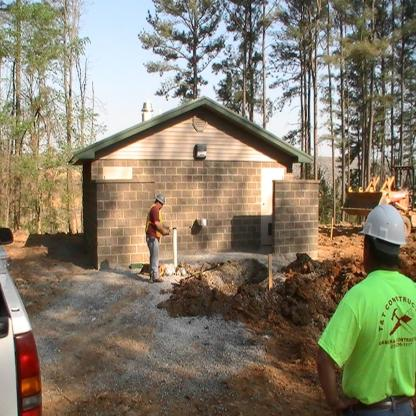Helmet: (368, 204, 408, 267), (155, 194, 166, 205)
